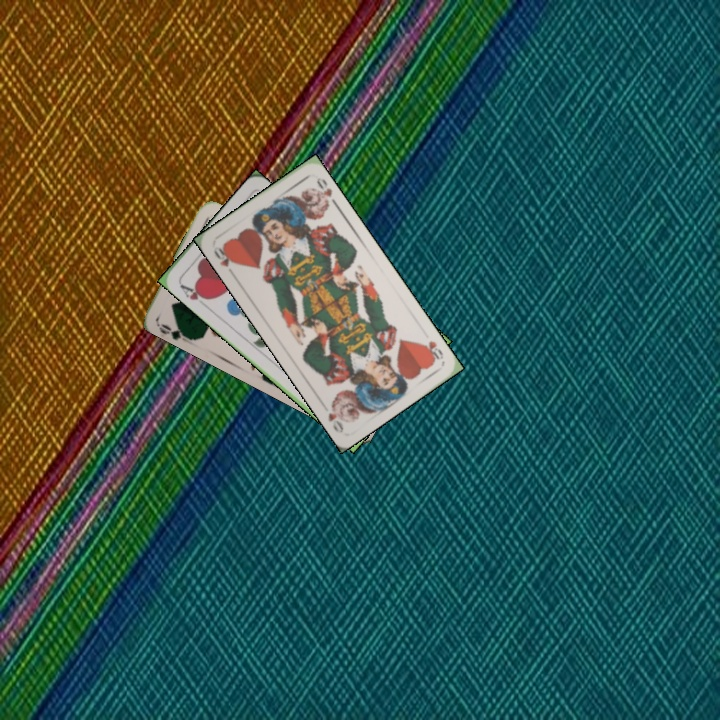GO: (154, 319, 193, 346)
HA: (176, 279, 212, 310)
HO: (209, 242, 238, 279), (416, 336, 446, 364)
